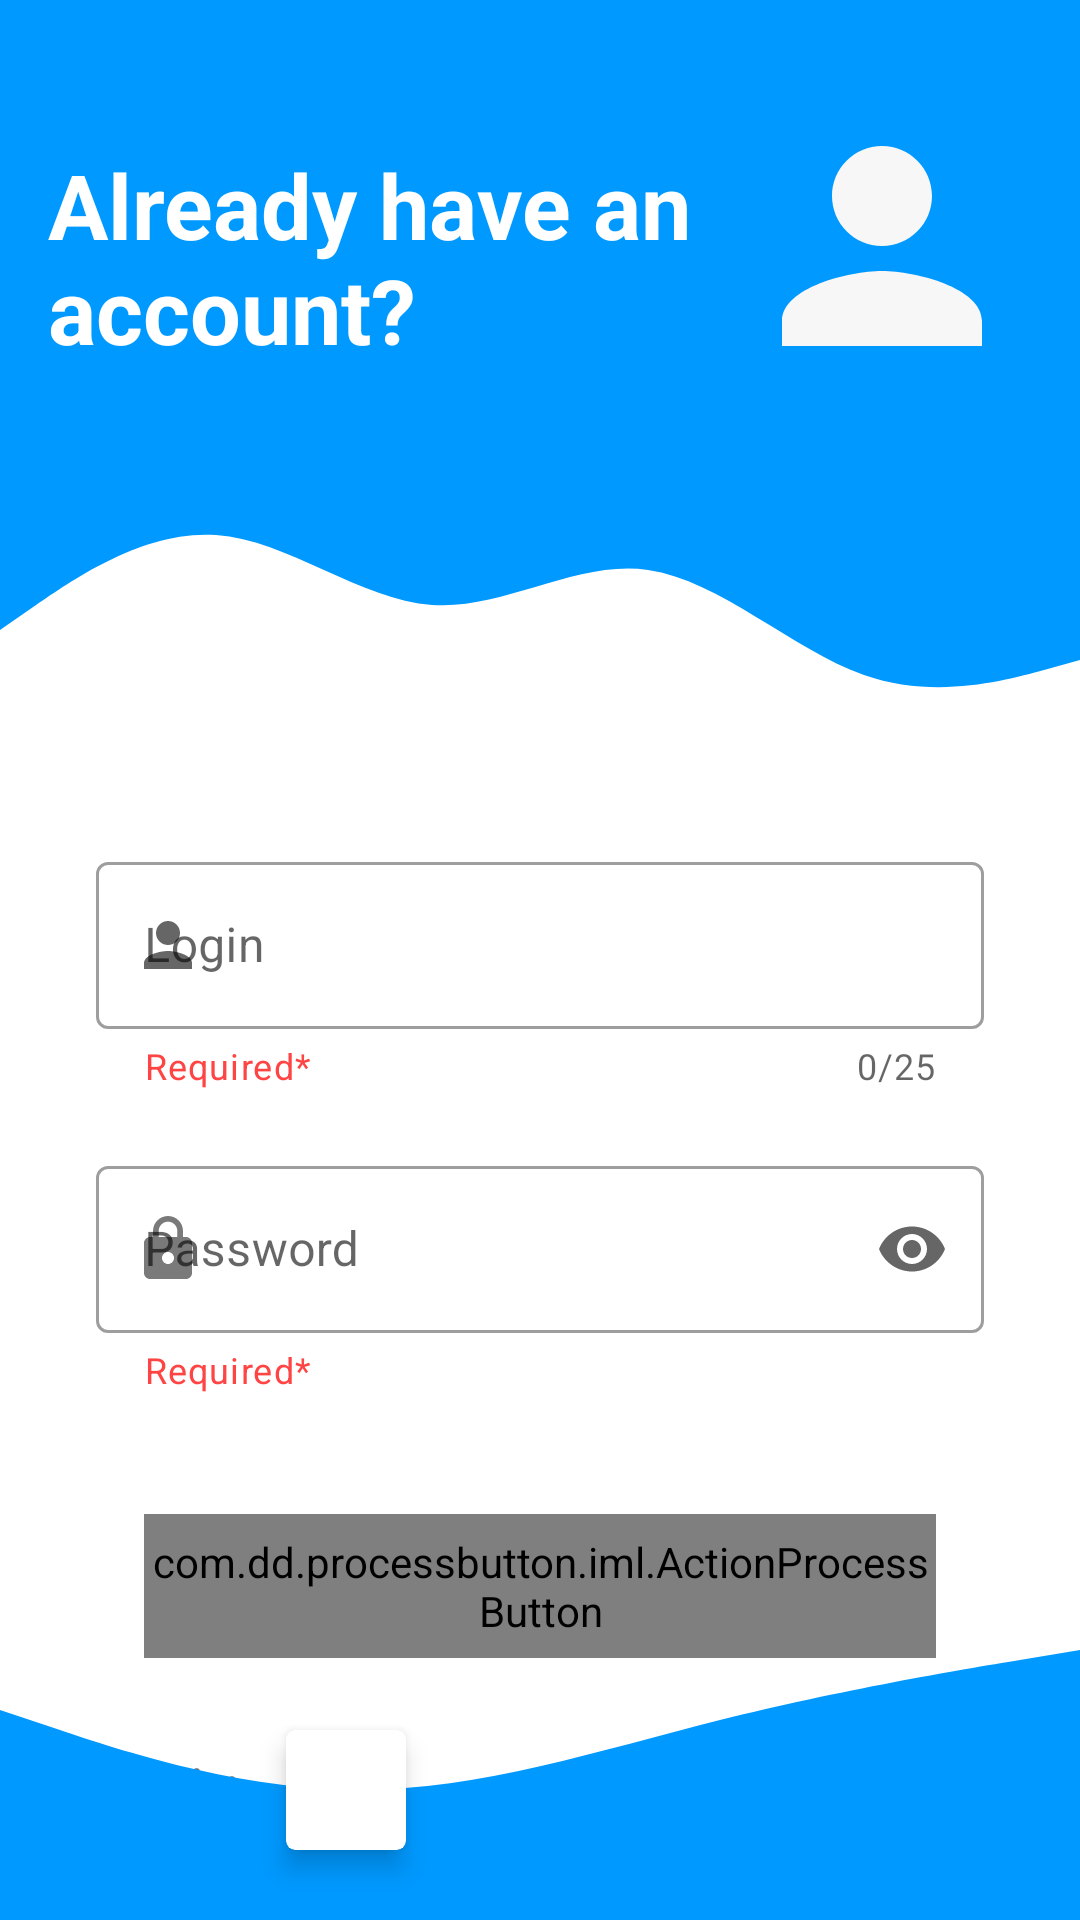

Locate icon controls on the screen. Image size 1080 x 1920, boxes as [left=x1, top=y1, right=x2, bottom=y2].
person: [left=782, top=146, right=982, bottom=346]
